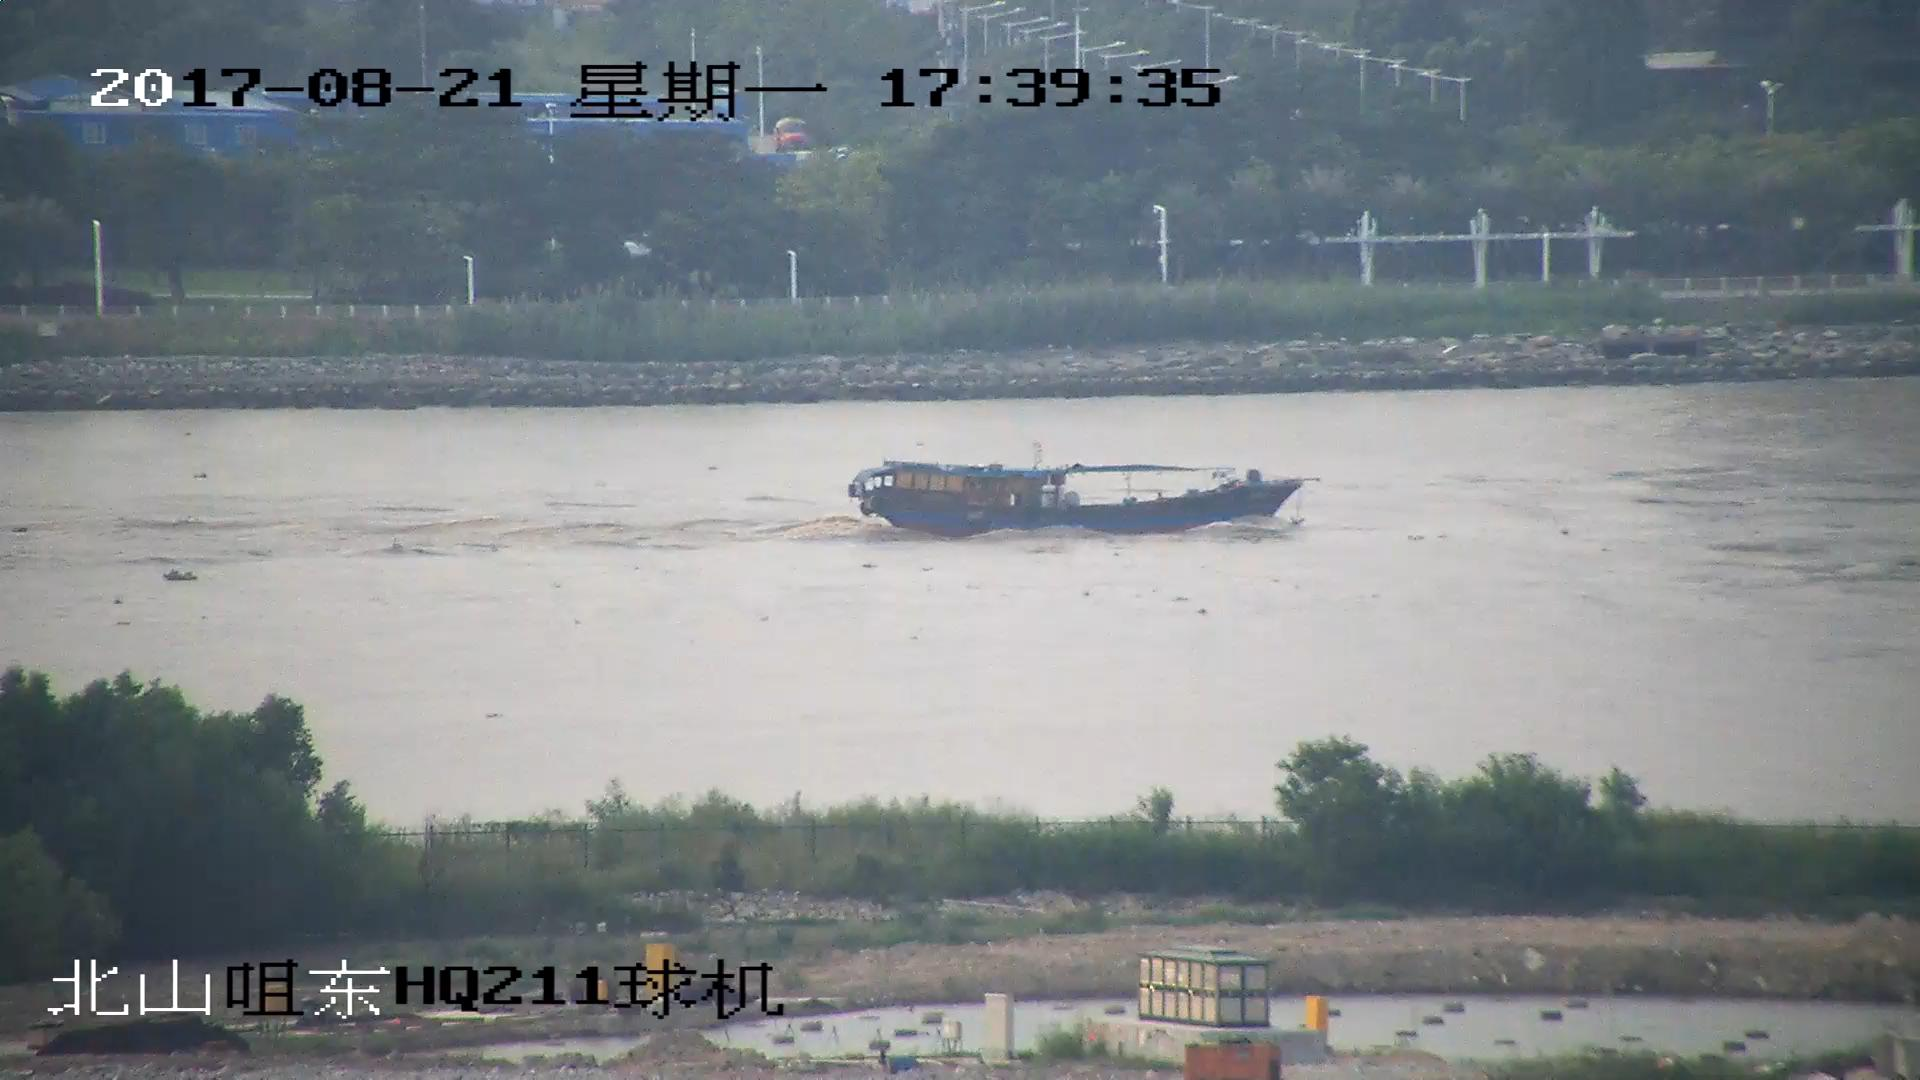fishing boat: (847, 450, 1306, 541)
